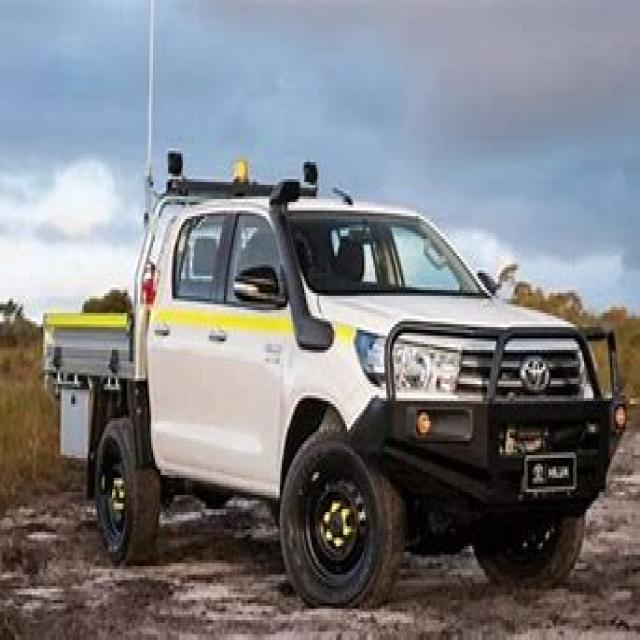light_vehicle: (30, 145, 629, 609)
